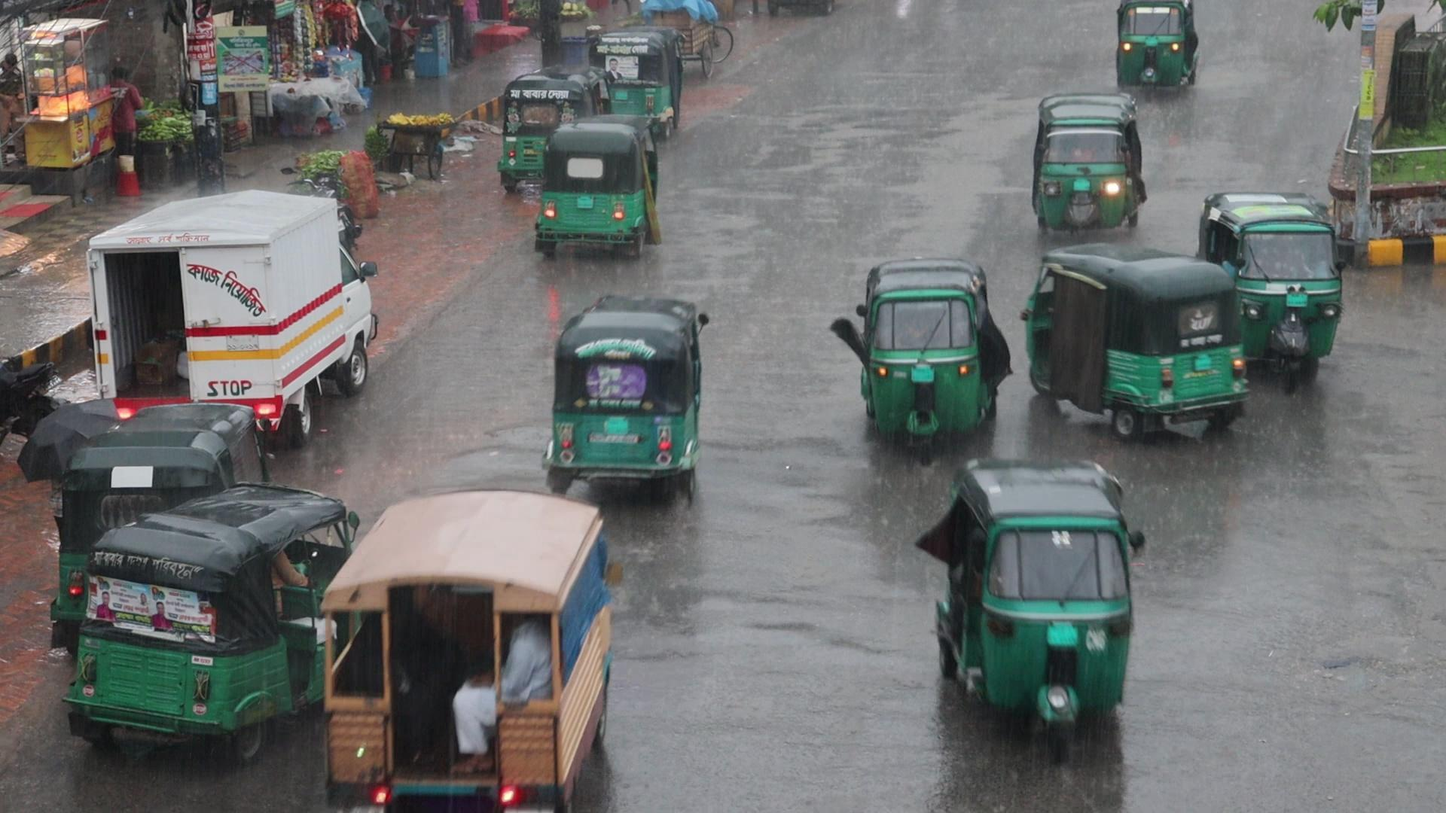Truck: (335, 488, 627, 813)
